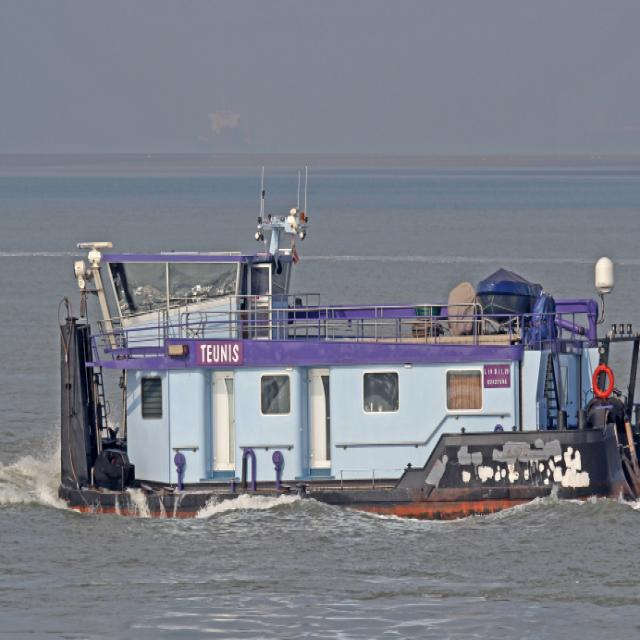tugboat: (52, 201, 640, 538)
